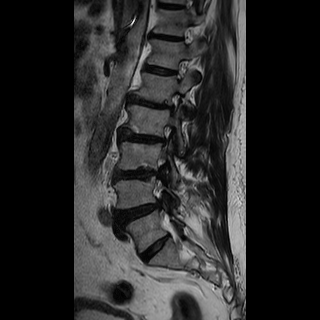LFS0: (158, 90, 189, 119)
